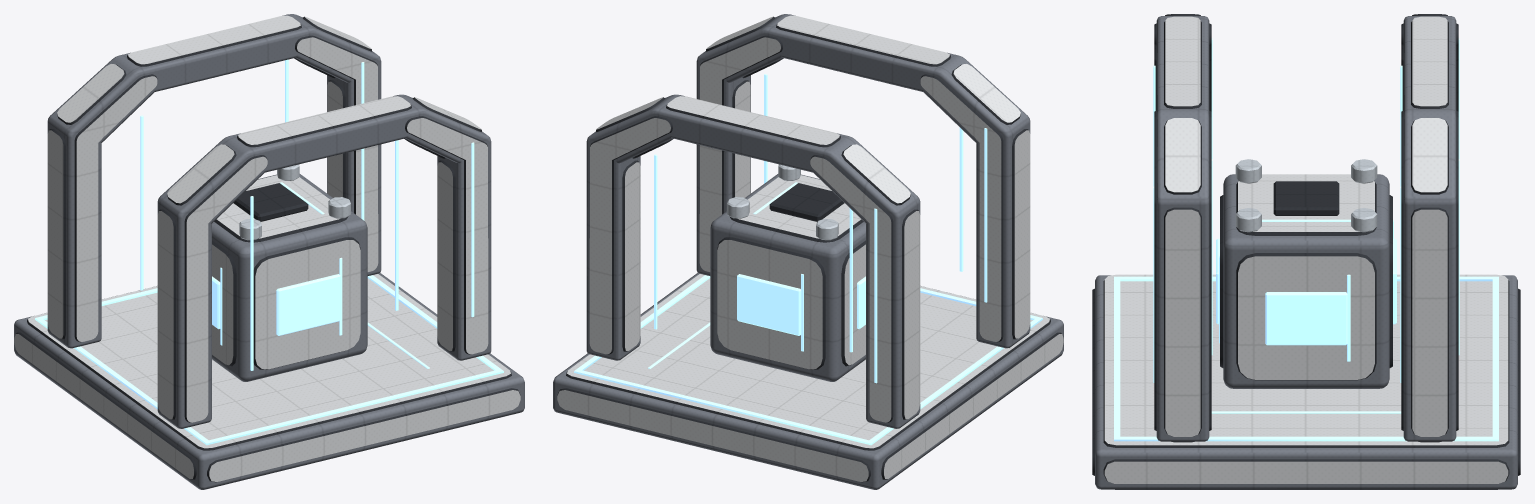
Rendered from R4X_ModuleDurabilityBooster.glb.
The picture shows the model from 3 angles, left to right: view 1: azimuth 30°, elevation 25°; view 2: azimuth 150°, elevation 25°; view 3: azimuth 270°, elevation 25°; orthographic projection. The views are drawn at different scales.
Visible parts, largest first — view 1: R4X_ModuleDurabilityBooster_Body; view 2: R4X_ModuleDurabilityBooster_Body; view 3: R4X_ModuleDurabilityBooster_Body.
Boxes of the visible parts, x1,y1,x2,y2 form: R4X_ModuleDurabilityBooster_Body: (14, 14, 524, 489); R4X_ModuleDurabilityBooster_Body: (553, 14, 1063, 489); R4X_ModuleDurabilityBooster_Body: (1092, 14, 1520, 489).
Size of the model in its own units: 0.52 by 0.46 by 0.52.
Materials: 5 (4 with a texture image).
